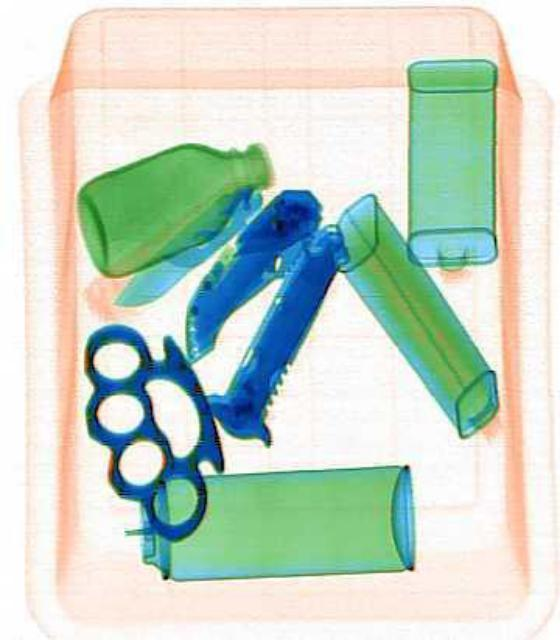Knife: (43, 294, 254, 558), (154, 172, 330, 364), (205, 214, 351, 442), (102, 172, 267, 320)
